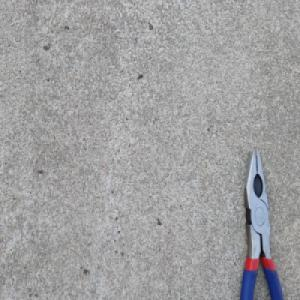Pliers: (239, 147, 285, 300)
